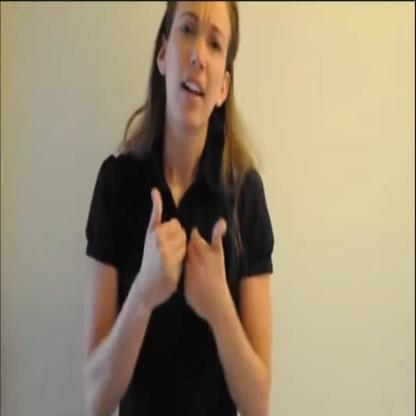HowAreYou: (110, 174, 242, 352)
